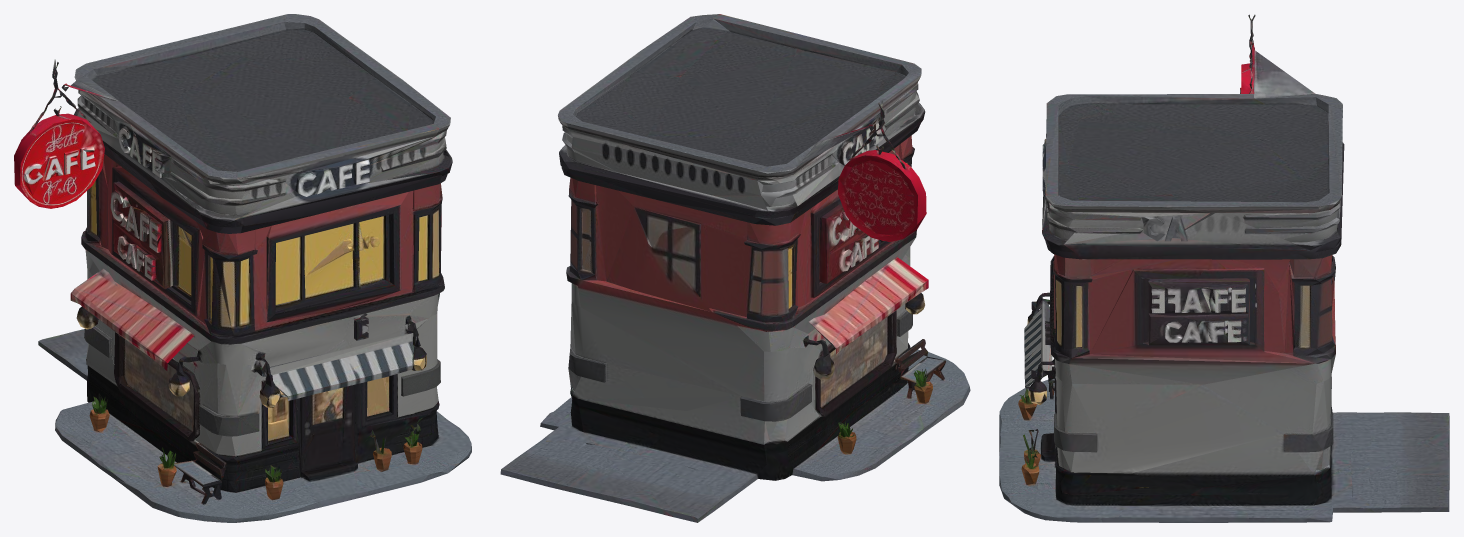
The model's file is bld_corner.glb.
The picture shows the model from 3 angles, left to right: view 1: azimuth 30°, elevation 25°; view 2: azimuth 150°, elevation 25°; view 3: azimuth 270°, elevation 25°; orthographic projection. The views are drawn at different scales.
Size of the model in its own units: 1.64 by 1.7 by 1.9.
Materials: 1 (1 with a texture image).
